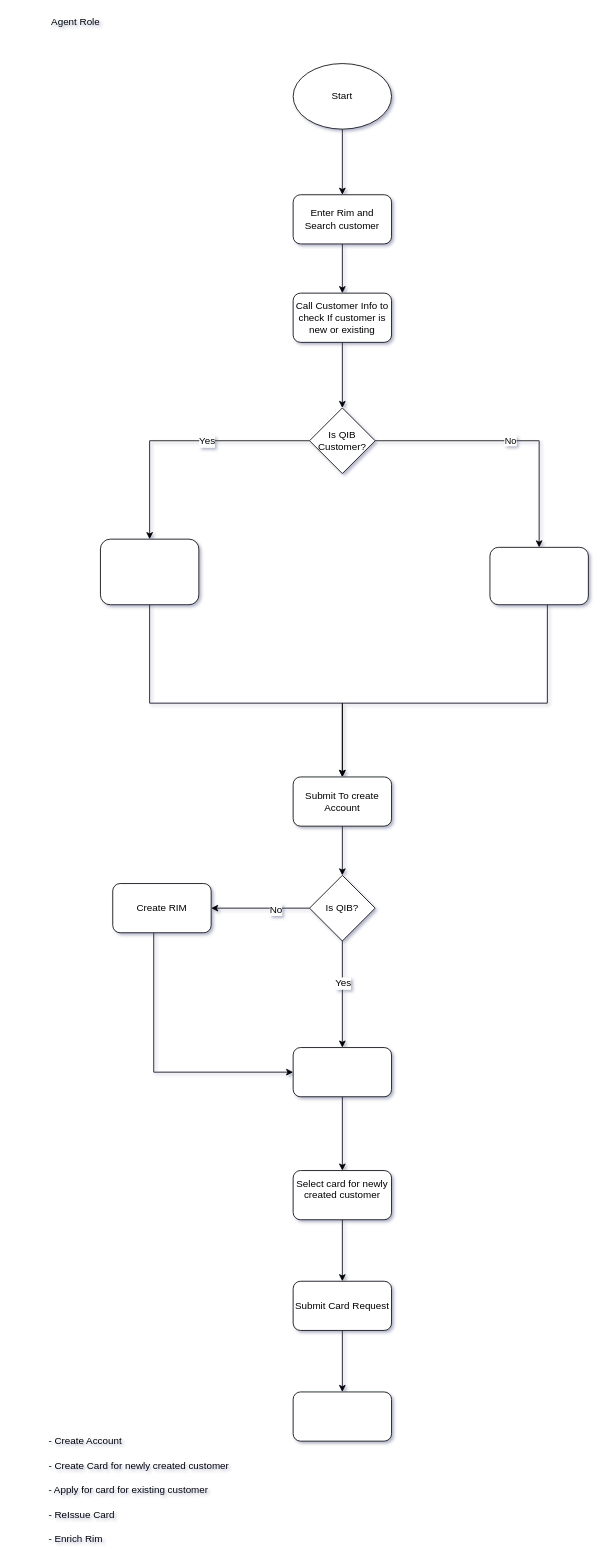
This 608x1566 diagram has some shape labels left out. The shapes that lost their labels are listed below. From the top down, each one's centre as x and y in pixels, then its label:
At [149,571]: "Auto populate information from RIM details service and Fill all required details".
At [538,576]: "Auto populate information from MOI service and Fill all required information".
At [342,1072]: "Create Account".
At [342,1416]: "Submit Request to create task in jBPM for AMU Team".
